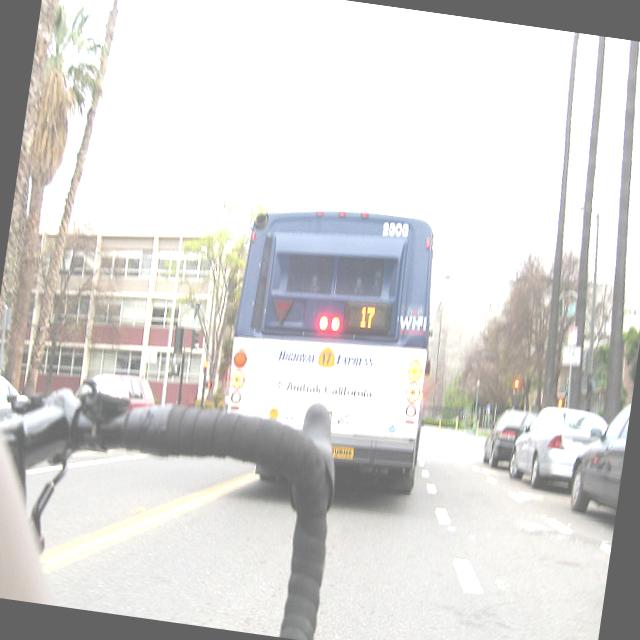Vehicle: (216, 192, 457, 488), (562, 392, 632, 536), (506, 400, 610, 496), (481, 404, 537, 472), (112, 372, 158, 412), (0, 371, 29, 423)
